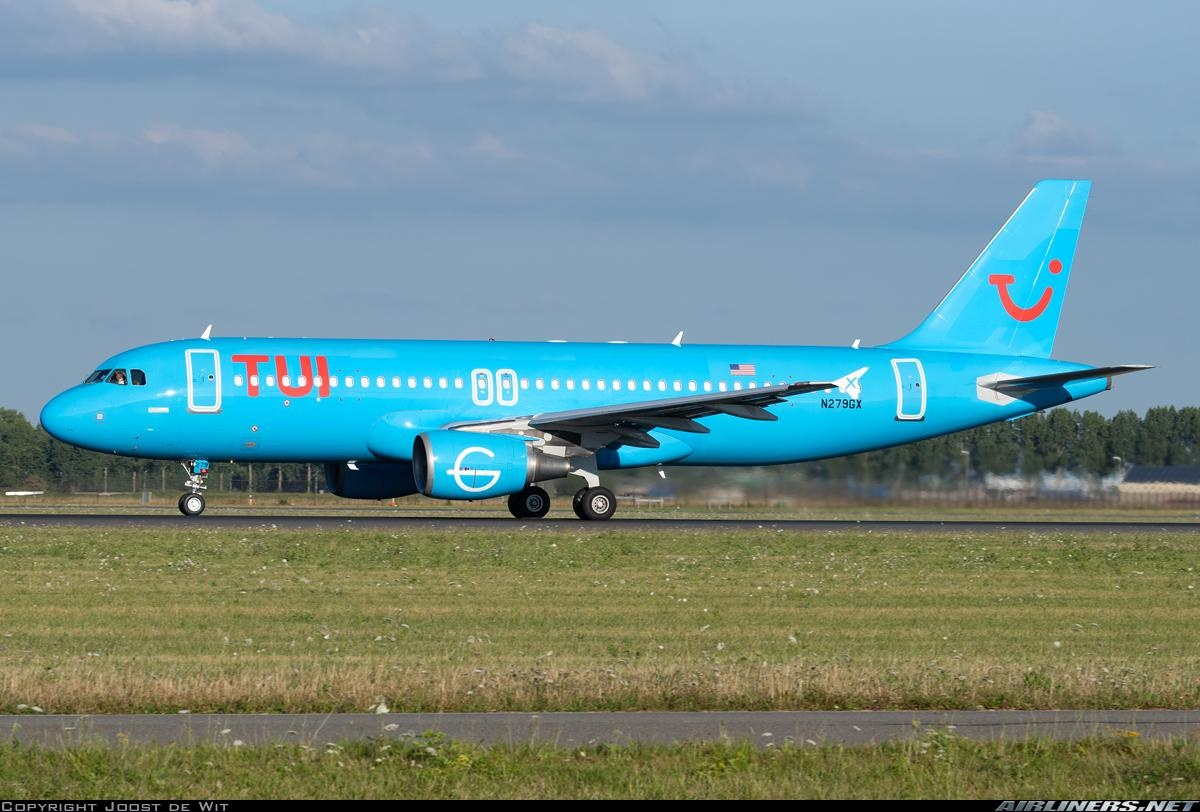aircraft: (32, 178, 1159, 521)
